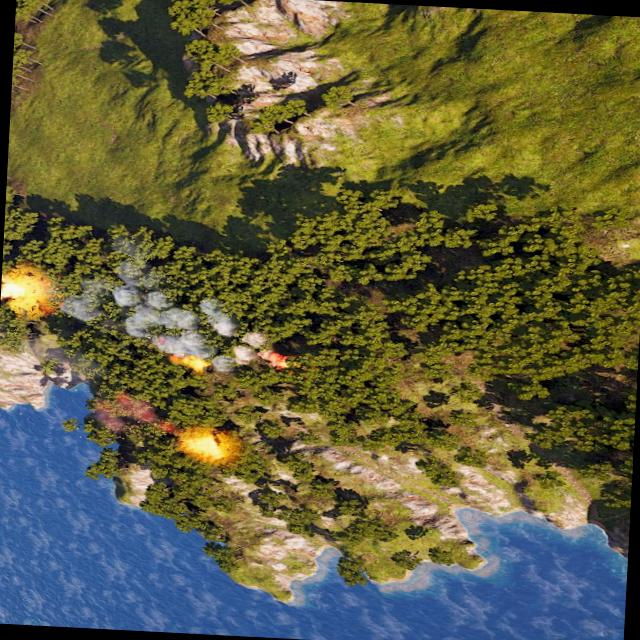fire: (181, 432, 230, 462), (1, 273, 32, 302), (170, 353, 212, 371), (270, 352, 290, 370)
smoke: (58, 264, 275, 376), (86, 392, 180, 436)
